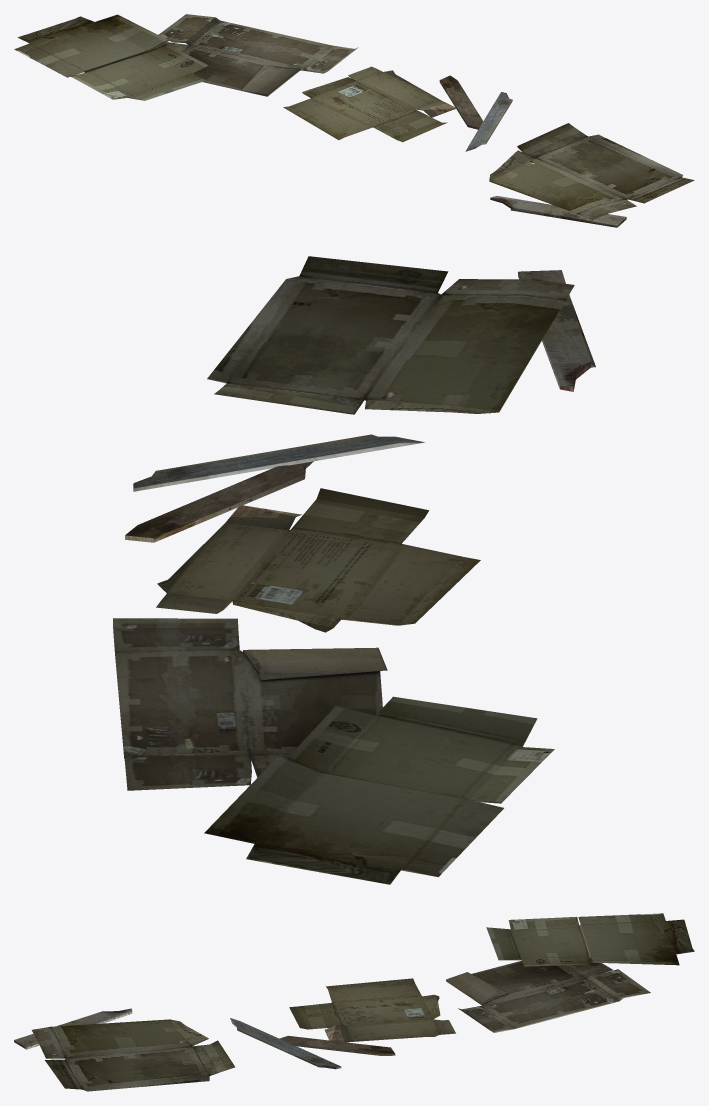
File: cardboard_boxes.fbx
The picture shows the model from 3 angles, top to bottom: view 1: azimuth 30°, elevation 25°; view 2: azimuth 150°, elevation 25°; view 3: azimuth 270°, elevation 25°; orthographic projection. The views are drawn at different scales.
Parts seen in each view (by area): view 1: cardboard_boxes.001; view 2: cardboard_boxes.001; view 3: cardboard_boxes.001.
Part boxes in pixels (bbox=[...]): cardboard_boxes.001: bbox=[14, 14, 694, 227]; cardboard_boxes.001: bbox=[113, 256, 595, 884]; cardboard_boxes.001: bbox=[14, 913, 694, 1091].
Bounding box in the file's own units: 3.76 × 0.0863 × 6.09.
Materials: 1 (1 with a texture image).
